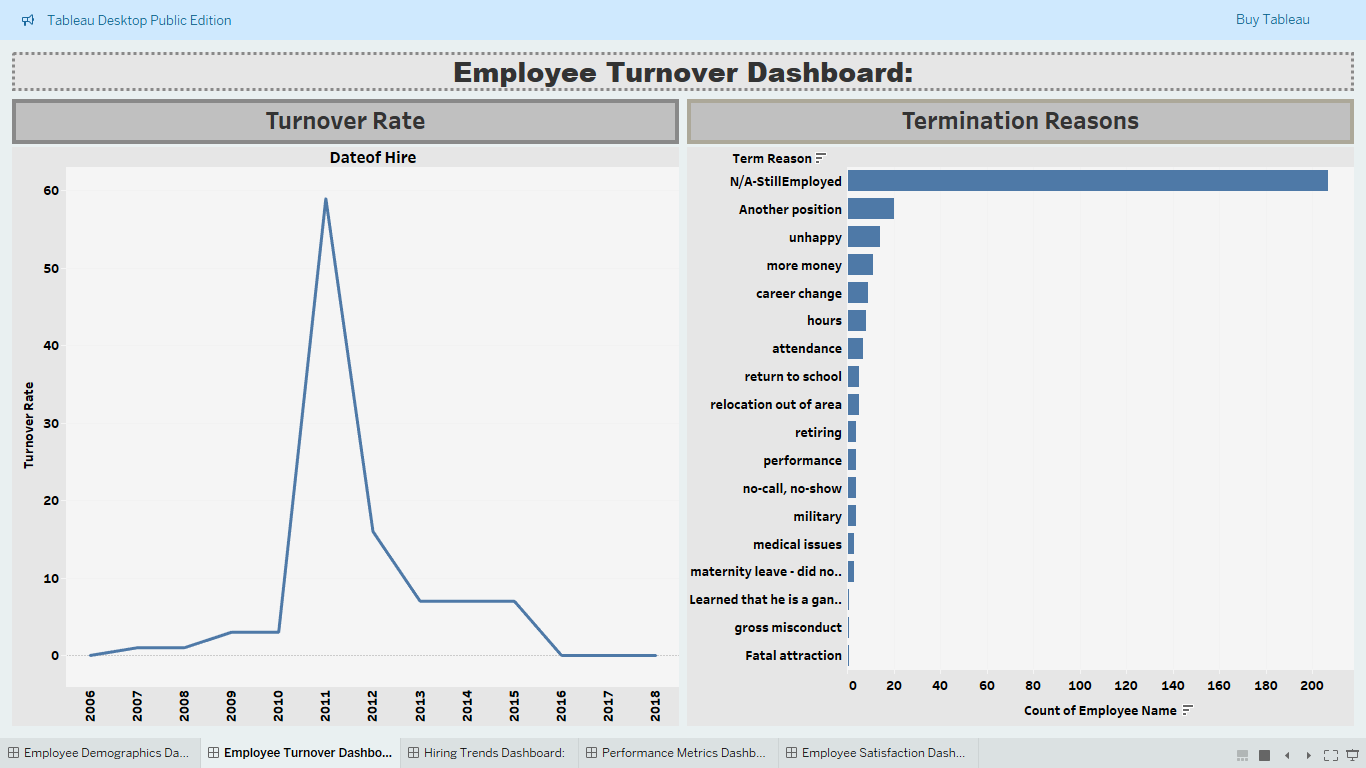

This screenshot's page, from the dashboard's own definition file:
{"tool":"tableau","page":{"name":"Employee Turnover Dashboard:","canvas":[1000,1000],"units":"permille","ordinal":2},"visuals":[{"type":"title","box":[6.9,14.7,986.1,86.4]},{"type":"worksheet","title":"Turnover Rate","mark":"Line","rows":["Calculation_919297309978705923"],"cols":["DateofHire"],"box":[6.9,101.1,493,884.2]},{"type":"worksheet","title":"Termination Reasons","mark":"Bar","rows":["TermReason"],"cols":["Employee_Name"],"box":[499.9,101.1,493.1,884.2]}]}

Visuals, with their boxes on the dashboard's canvas, which has no fixed pixel size, in thousandths of its width and height (x1, y1, x2, y2). These are canvas units, not pixel positions in the 1366x768 screenshot, which may show the page scaled, cropped or inside an application window:
title: {"left": 7, "top": 15, "right": 993, "bottom": 101}
"Turnover Rate" worksheet (Line marks): {"left": 7, "top": 101, "right": 500, "bottom": 985}
"Termination Reasons" worksheet (Bar marks): {"left": 500, "top": 101, "right": 993, "bottom": 985}
